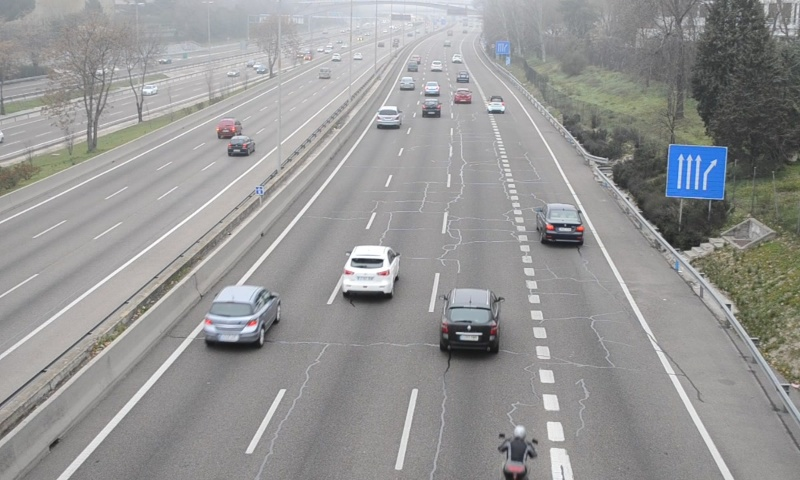car: (204, 285, 280, 347), (440, 289, 498, 356), (340, 246, 401, 297), (536, 203, 584, 246), (376, 106, 402, 129), (486, 94, 505, 114), (422, 98, 441, 118), (454, 88, 472, 104), (398, 76, 416, 92), (424, 80, 440, 97)
motorcycle: (495, 426, 539, 480)
